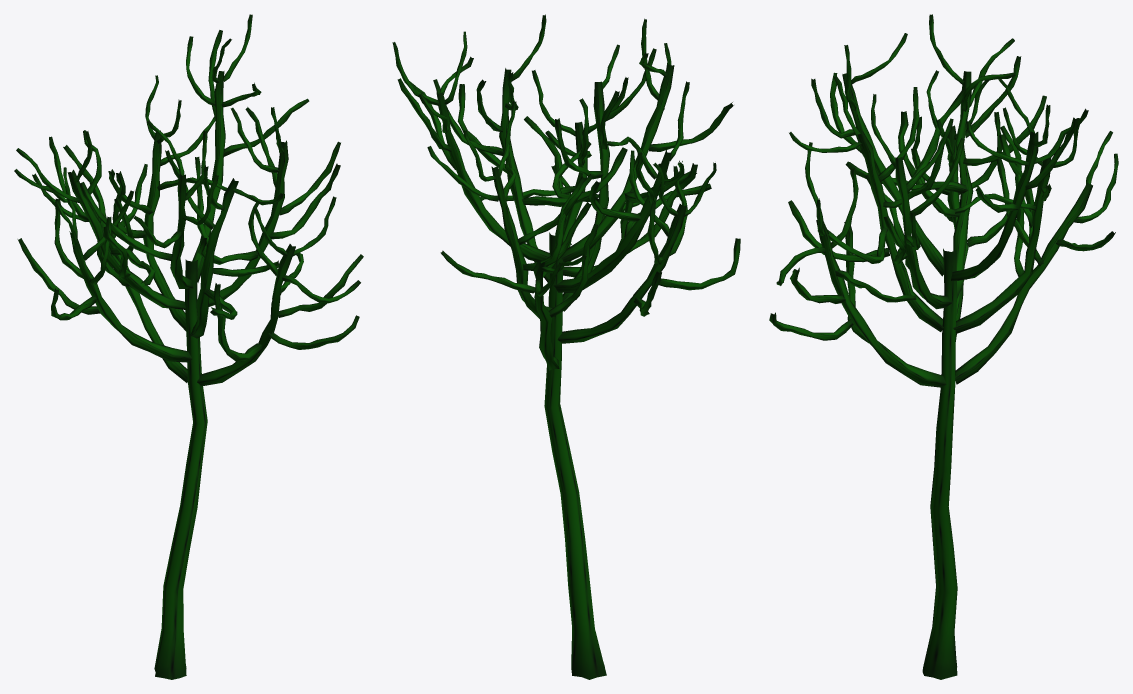
The model's file is TreeSingle.gltf.
3 views of the same model, side by side, from view 1: azimuth 30°, elevation 25°; view 2: azimuth 150°, elevation 25°; view 3: azimuth 270°, elevation 25° (orthographic). The views are drawn at different scales.
Visible parts, largest first — view 1: Trunk_C, Trunk_B, Trunk_A; view 2: Trunk_C, Trunk_B, Trunk_A; view 3: Trunk_C, Trunk_B, Trunk_A.
Boxes of the visible parts, bbox=[...] form: Trunk_C: bbox=[14, 14, 363, 361]; Trunk_B: bbox=[67, 71, 295, 386]; Trunk_A: bbox=[154, 259, 207, 679]; Trunk_C: bbox=[392, 14, 740, 317]; Trunk_B: bbox=[436, 64, 686, 370]; Trunk_A: bbox=[544, 232, 606, 679]; Trunk_C: bbox=[769, 14, 1118, 343]; Trunk_B: bbox=[816, 71, 1092, 387]; Trunk_A: bbox=[922, 248, 957, 679].
Size of the model in its own units: 0.1698 by 0.3354 by 0.166.
